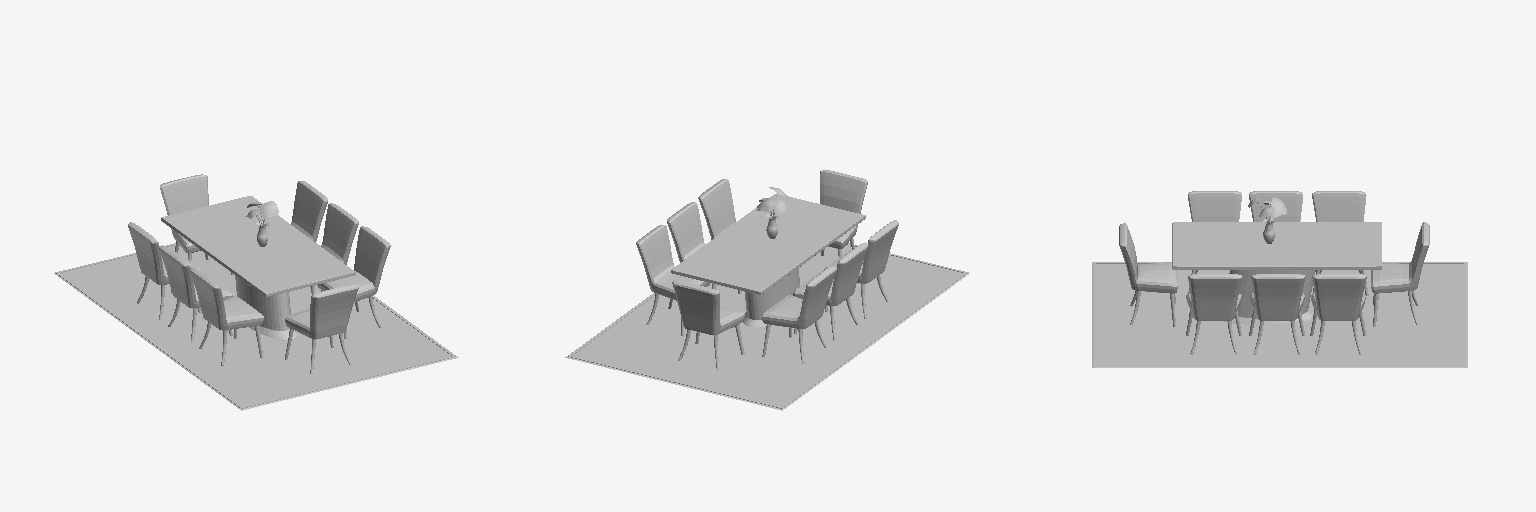
The model's file is table2.obj.
3 renders of one model, left to right at view 1: azimuth 30°, elevation 25°; view 2: azimuth 150°, elevation 25°; view 3: azimuth 270°, elevation 25°, orthographic.
Parts seen in each view (by area): view 1: Plane.001, mesajantar_Plane.007, cadeirajantar_Circle.017, cadeirajantar.006_Circle.010, cadeirajantar.001_Circle.001, cadeirajantar.007_Circle.012, cadeirajantar.005_Circle.009, cadeirajantar.004_Circle.008, cadeirajantar.002_Circle.002, cadeirajantar.003_Circle.003; view 2: Plane.001, mesajantar_Plane.007, cadeirajantar.007_Circle.012, cadeirajantar.004_Circle.008, cadeirajantar.003_Circle.003, cadeirajantar_Circle.017, cadeirajantar.005_Circle.009, cadeirajantar.006_Circle.010, cadeirajantar.002_Circle.002, cadeirajantar.001_Circle.001; view 3: Plane.001, mesajantar_Plane.007, cadeirajantar.001_Circle.001, cadeirajantar.002_Circle.002, cadeirajantar.003_Circle.003, cadeirajantar_Circle.017, cadeirajantar.007_Circle.012, cadeirajantar.004_Circle.008, cadeirajantar.006_Circle.010, cadeirajantar.005_Circle.009.
Boxes of the visible parts, <box> form: Plane.001: <box>54,243,458,410</box>; mesajantar_Plane.007: <box>161,196,355,339</box>; cadeirajantar_Circle.017: <box>285,284,358,373</box>; cadeirajantar.006_Circle.010: <box>190,268,263,365</box>; cadeirajantar.001_Circle.001: <box>317,226,390,338</box>; cadeirajantar.007_Circle.012: <box>160,174,233,274</box>; cadeirajantar.005_Circle.009: <box>159,245,233,342</box>; cadeirajantar.004_Circle.008: <box>128,222,201,319</box>; cadeirajantar.002_Circle.002: <box>311,203,358,294</box>; cadeirajantar.003_Circle.003: <box>291,181,327,242</box>; Plane.001: <box>565,243,969,410</box>; mesajantar_Plane.007: <box>671,194,865,327</box>; cadeirajantar.007_Circle.012: <box>672,280,744,369</box>; cadeirajantar.004_Circle.008: <box>761,265,836,363</box>; cadeirajantar.003_Circle.003: <box>636,225,709,335</box>; cadeirajantar_Circle.017: <box>820,170,867,256</box>; cadeirajantar.005_Circle.009: <box>793,242,868,340</box>; cadeirajantar.006_Circle.010: <box>824,220,898,318</box>; cadeirajantar.002_Circle.002: <box>667,202,740,302</box>; cadeirajantar.001_Circle.001: <box>698,179,735,239</box>; Plane.001: <box>1092,262,1467,367</box>; mesajantar_Plane.007: <box>1172,222,1381,324</box>; cadeirajantar.001_Circle.001: <box>1186,274,1242,354</box>; cadeirajantar.002_Circle.002: <box>1249,274,1305,354</box>; cadeirajantar.003_Circle.003: <box>1310,274,1366,354</box>; cadeirajantar_Circle.017: <box>1119,223,1177,326</box>; cadeirajantar.007_Circle.012: <box>1371,222,1429,326</box>; cadeirajantar.004_Circle.008: <box>1312,191,1368,295</box>; cadeirajantar.006_Circle.010: <box>1188,191,1241,293</box>; cadeirajantar.005_Circle.009: <box>1249,191,1302,221</box>.
Size of the model in its own units: 2.23 by 1.17 by 3.34.